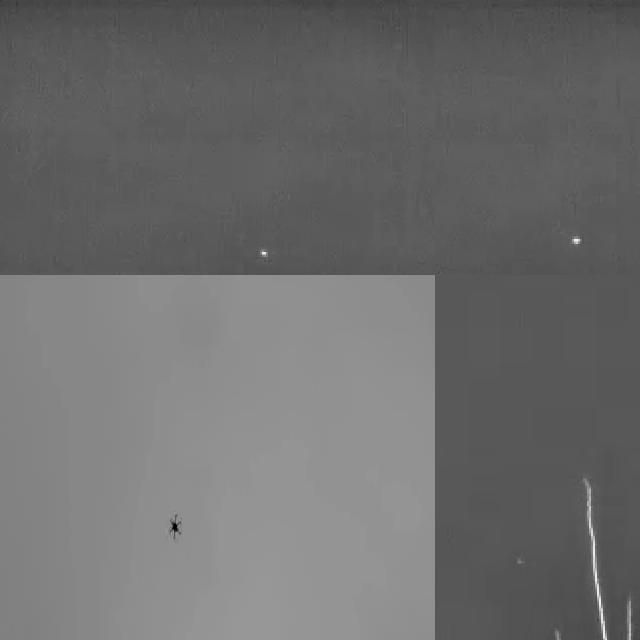0: (505, 551, 531, 581)
1: (244, 241, 276, 273), (560, 232, 584, 256)
drone: (164, 507, 189, 542)
